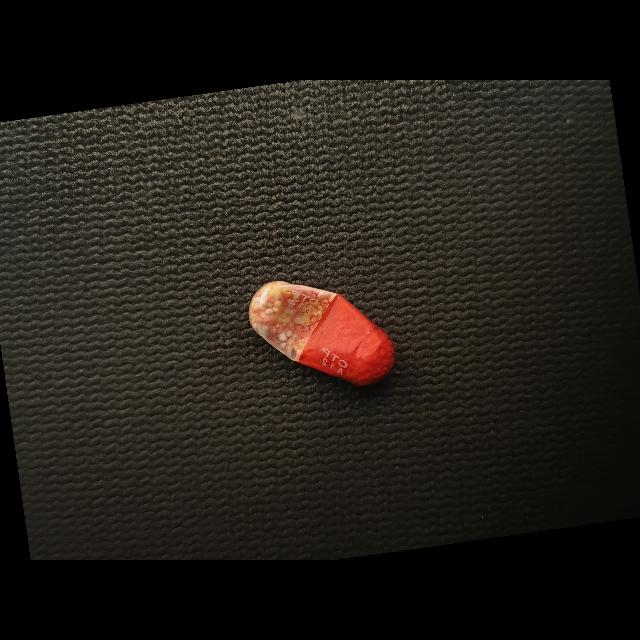Defective Capsule: (249, 281, 395, 385)
